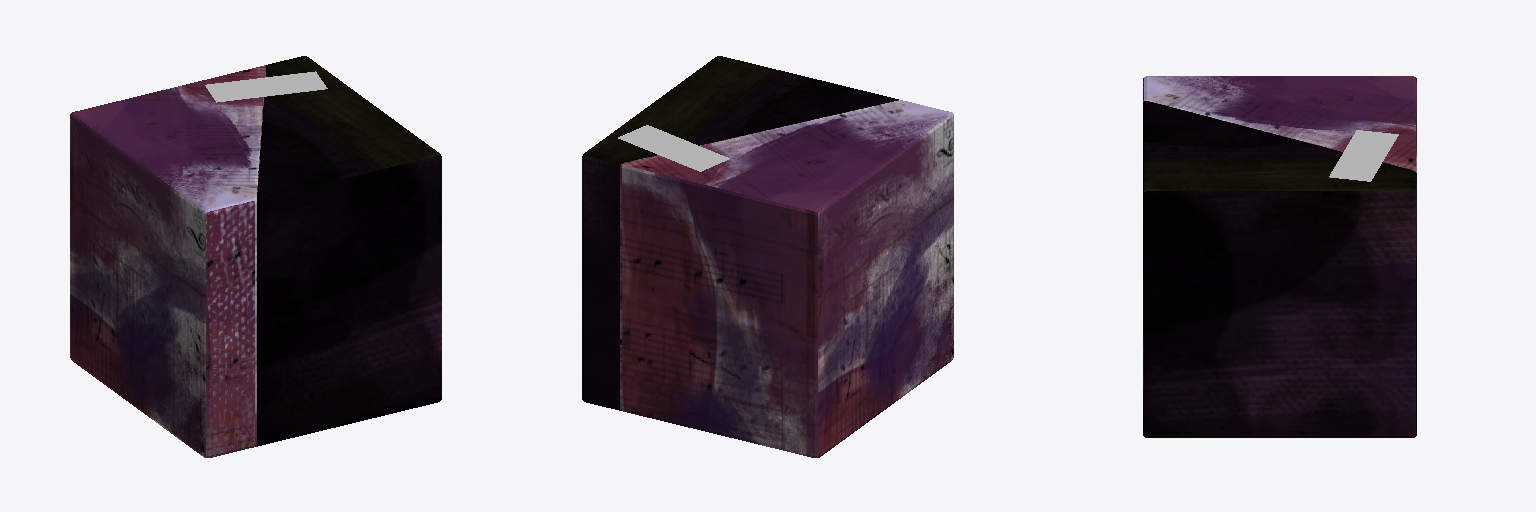
3 views of the same model, side by side, from view 1: azimuth 30°, elevation 25°; view 2: azimuth 150°, elevation 25°; view 3: azimuth 270°, elevation 25° (orthographic).
Parts seen in each view (by area): view 1: MANOR_GROUND_1_001; view 2: MANOR_GROUND_1_001; view 3: MANOR_GROUND_1_001.
Boxes of the visible parts, <box> form: MANOR_GROUND_1_001: <box>70,56,441,457</box>; MANOR_GROUND_1_001: <box>582,56,953,457</box>; MANOR_GROUND_1_001: <box>1143,76,1416,437</box>.
Bounding box in the file's own units: 1 × 1.01 × 1.
3 materials, 2 textured.